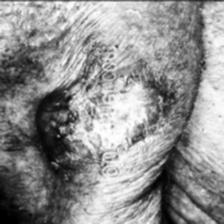Potentially Malignant Skin Tumors: (25, 74, 100, 160), (117, 70, 180, 160)
